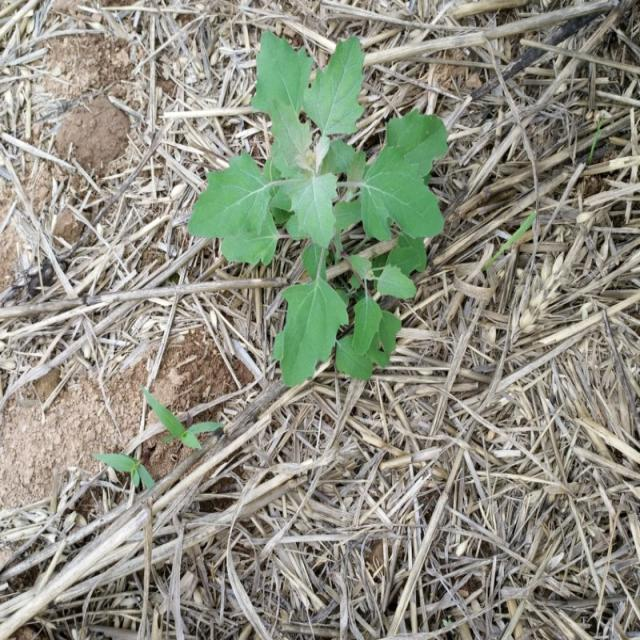ca: (188, 27, 448, 389)
